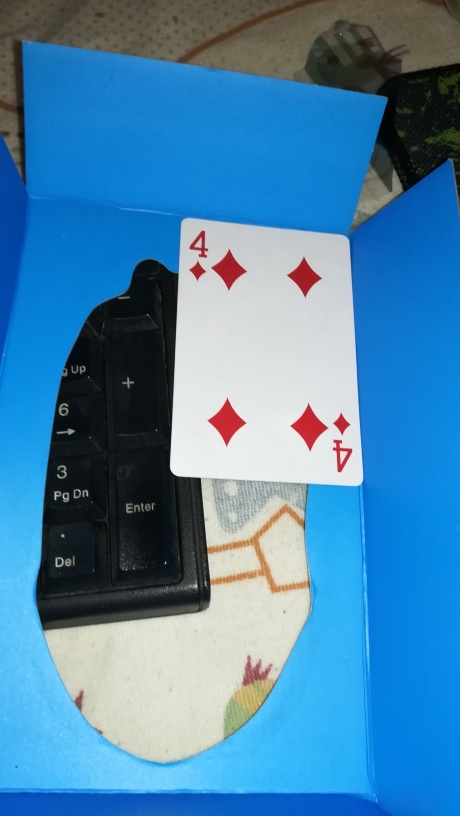fk 4: (169, 213, 365, 495)
